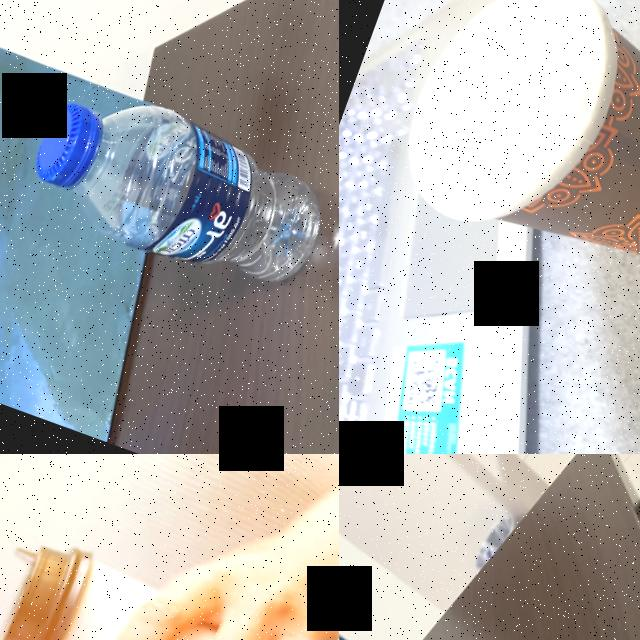bottle: (13, 68, 339, 308), (339, 578, 523, 640)
cup: (387, 0, 640, 328), (0, 532, 339, 640)
